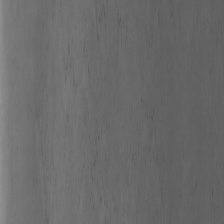silk_spot: (54, 16, 171, 193)
